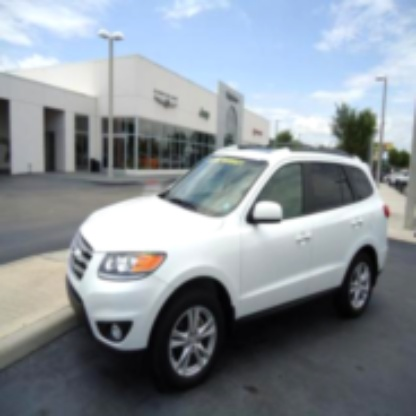Vehicle: (66, 146, 390, 390)
